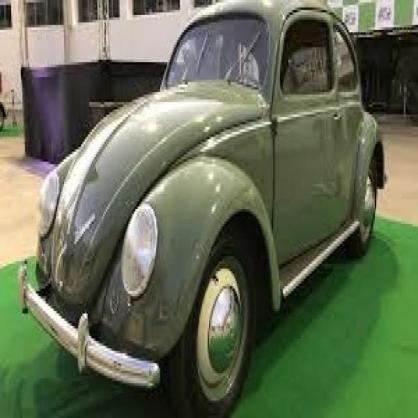car: (21, 2, 390, 418)
